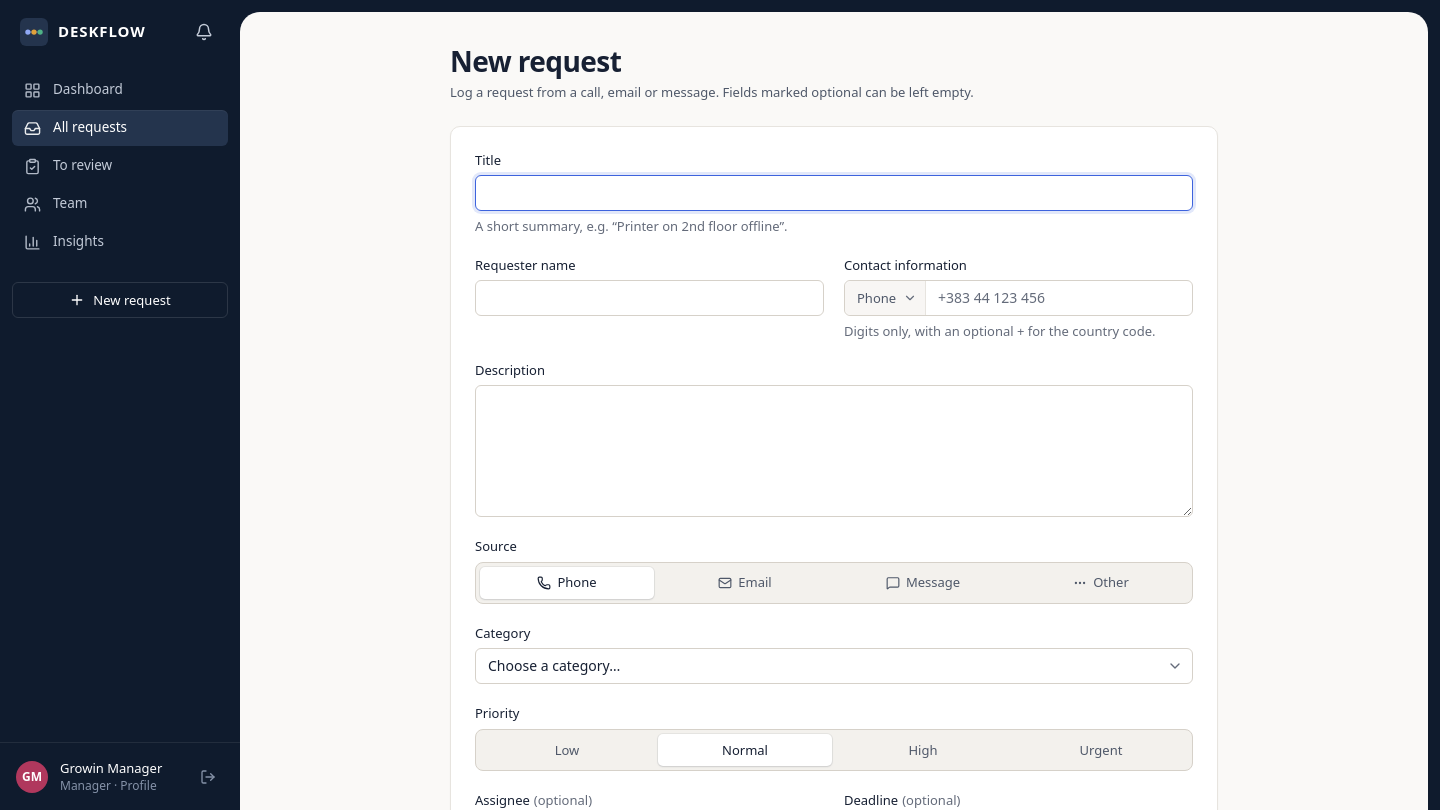
Test: contact field › says what each required field needs before anything is sent
This screenshot has width=1440, height=810.
Step 1. Type "ab" into the field labelled "Title" → [834, 193], box left=475, top=175, right=1193, bottom=211
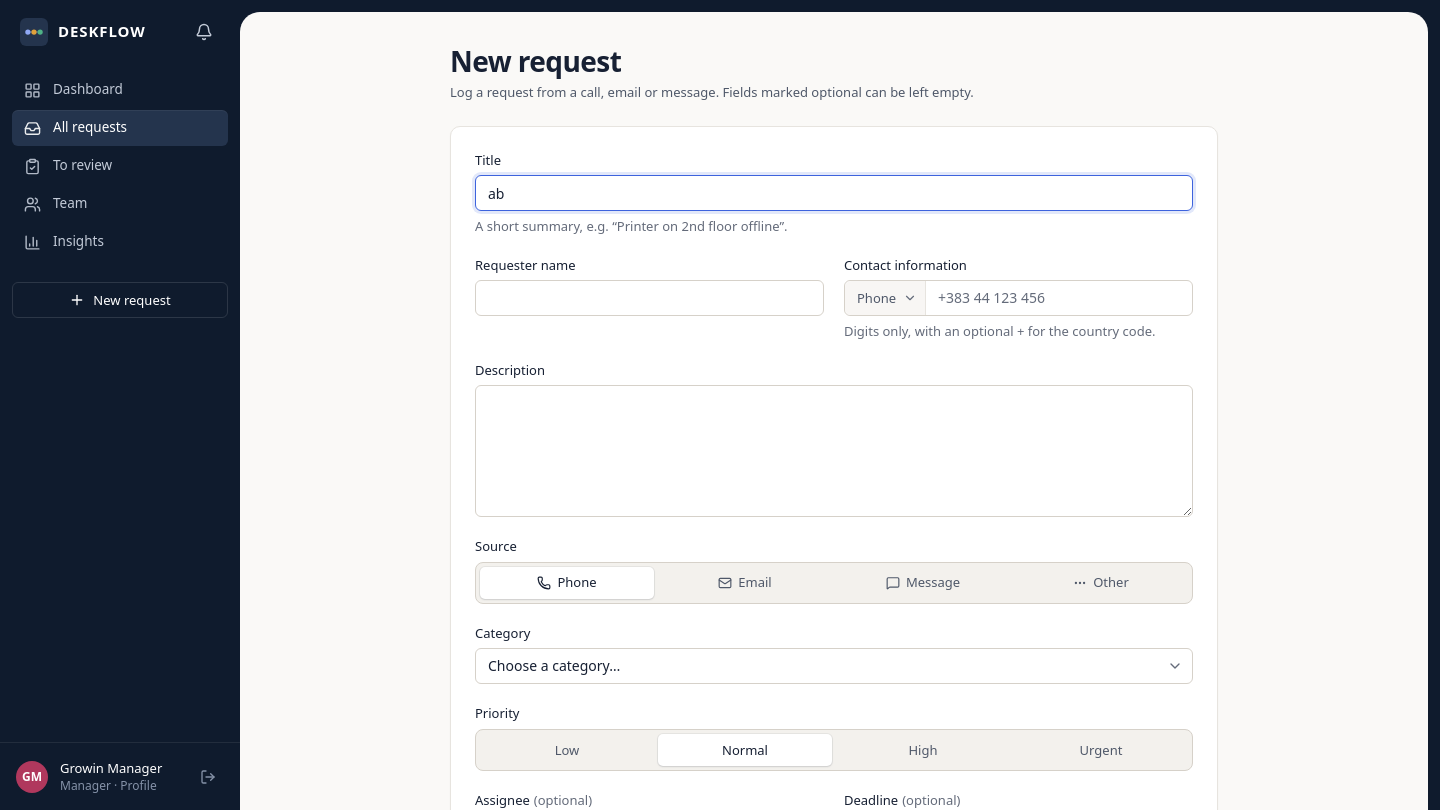
Step 2. Type "short" into the text box labelled "Description" → [834, 451], box left=475, top=385, right=1193, bottom=517
(page scrolled)
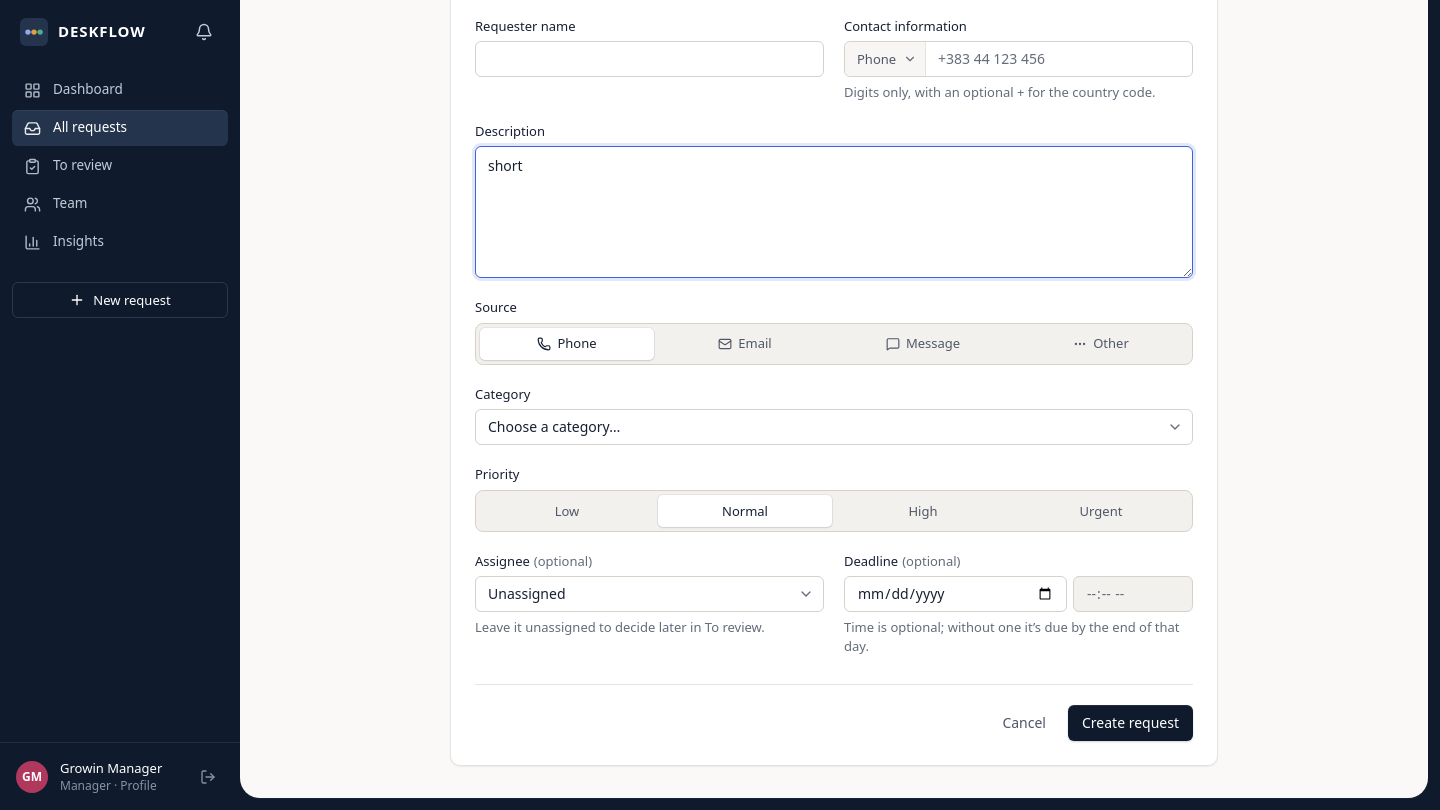
Step 3. Click the button "Create request" → [1130, 722], box left=1068, top=704, right=1193, bottom=740
(page scrolled)
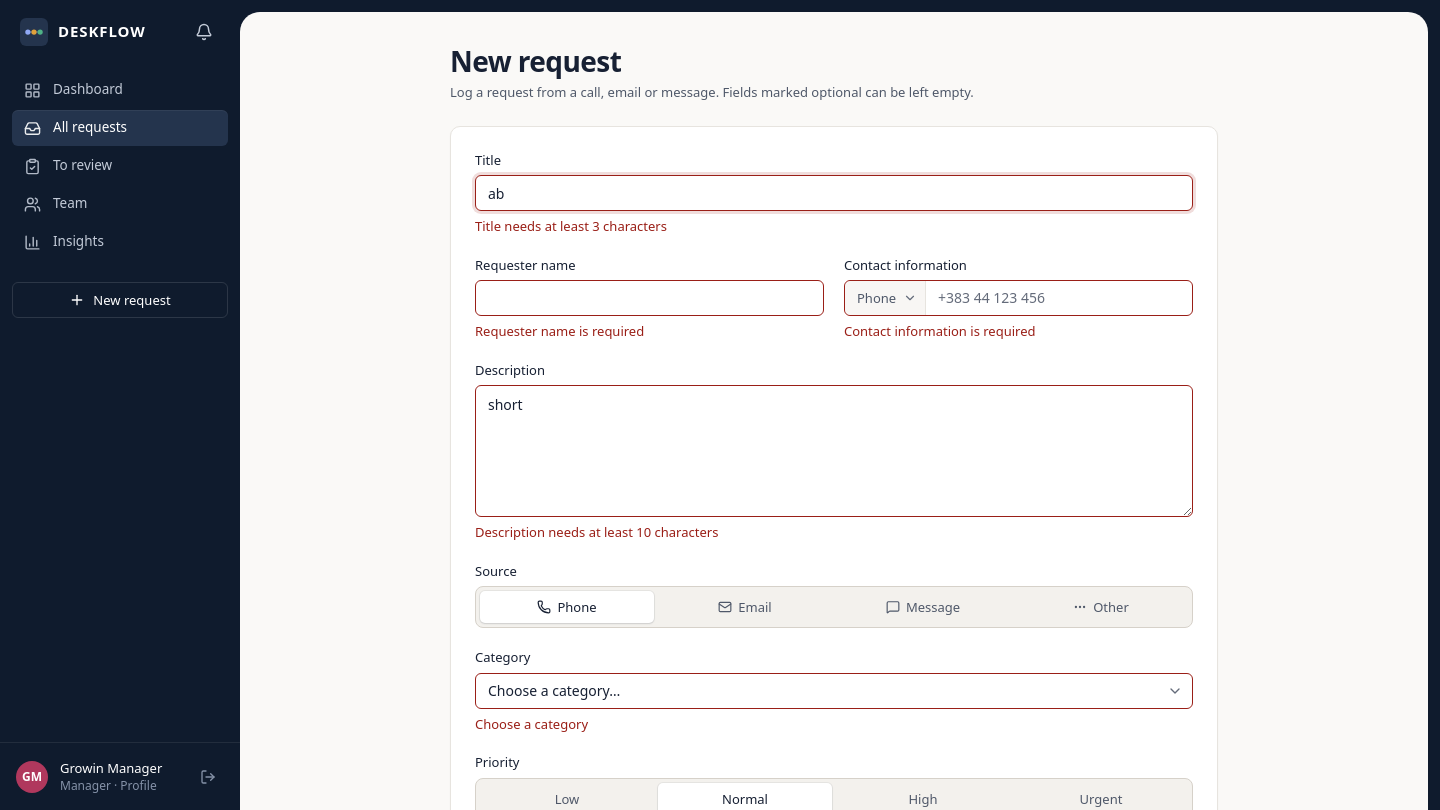
Result: the text "Title needs at least 3 characters" is shown at left=475, top=217, right=667, bottom=235
Result: the text "Description needs at least 10 characters" is shown at left=475, top=523, right=718, bottom=541
Result: the text "Requester name is required" is shown at left=475, top=322, right=644, bottom=340
